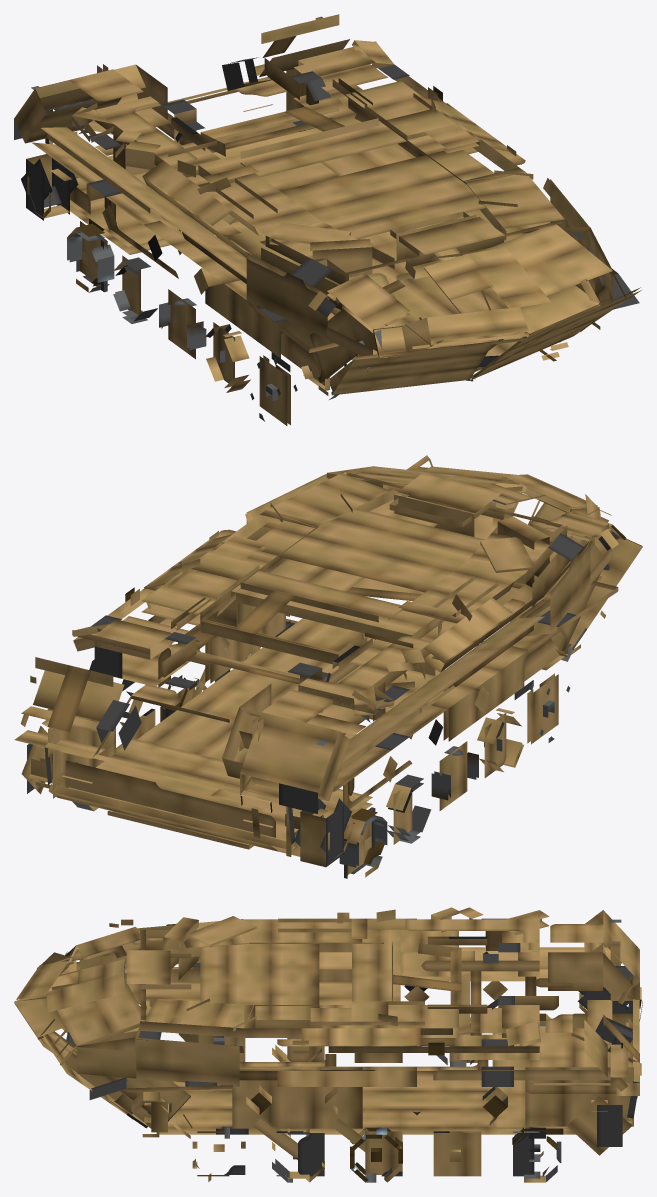
The model's file is bmd.obj.
3 views of the same model, one above another, from view 1: azimuth 30°, elevation 25°; view 2: azimuth 150°, elevation 25°; view 3: azimuth 270°, elevation 25° (orthographic). The views are drawn at different scales.
Parts seen in each view (by area): view 1: body, w13, w11, w7, w5, w3, w9; view 2: body, w13, w11, w7, w9, w5, w3, w14; view 3: body, w8, w10, w14, w12, w6, w2, w5, w4, w13, w22, w3 (+2 smaller).
Part boxes in pixels (x1=…): body: x1=14, y1=14, x2=641, y2=399; w13: x1=21, y1=154, x2=78, y2=220; w11: x1=67, y1=221, x2=114, y2=292; w7: x1=159, y1=289, x2=206, y2=359; w5: x1=204, y1=322, x2=250, y2=392; w3: x1=250, y1=355, x2=297, y2=425; w9: x1=113, y1=255, x2=157, y2=323; body: x1=14, y1=455, x2=642, y2=856; w13: x1=294, y1=798, x2=351, y2=867; w11: x1=339, y1=807, x2=387, y2=878; w7: x1=431, y1=741, x2=478, y2=810; w9: x1=386, y1=774, x2=431, y2=844; w5: x1=477, y1=708, x2=523, y2=777; w3: x1=527, y1=673, x2=570, y2=744; w14: x1=21, y1=726, x2=52, y2=794; body: x1=14, y1=907, x2=642, y2=1159; w8: x1=350, y1=1127, x2=402, y2=1182; w10: x1=433, y1=1131, x2=481, y2=1176; w14: x1=567, y1=1096, x2=631, y2=1155; w12: x1=512, y1=1127, x2=561, y2=1182; w6: x1=272, y1=1128, x2=324, y2=1182; w2: x1=131, y1=1092, x2=171, y2=1137; w5: x1=272, y1=1038, x2=324, y2=1061; w4: x1=192, y1=1127, x2=245, y2=1181; w13: x1=577, y1=987, x2=629, y2=1013; w22: x1=482, y1=1087, x2=507, y2=1117; w3: x1=198, y1=1034, x2=245, y2=1061.
Bounding box in the file's own units: 3.55 × 2.06 × 7.27.
